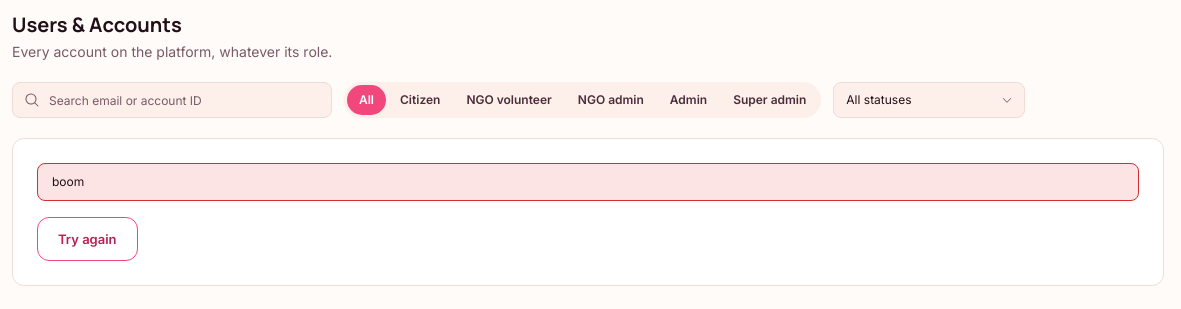
UsersPage › shows a load failure with a retry that recovers
Check: the message reads "boom", box [52,174,84,189]
Click the button named "Try again" at (87,239), box [37,217,138,261]
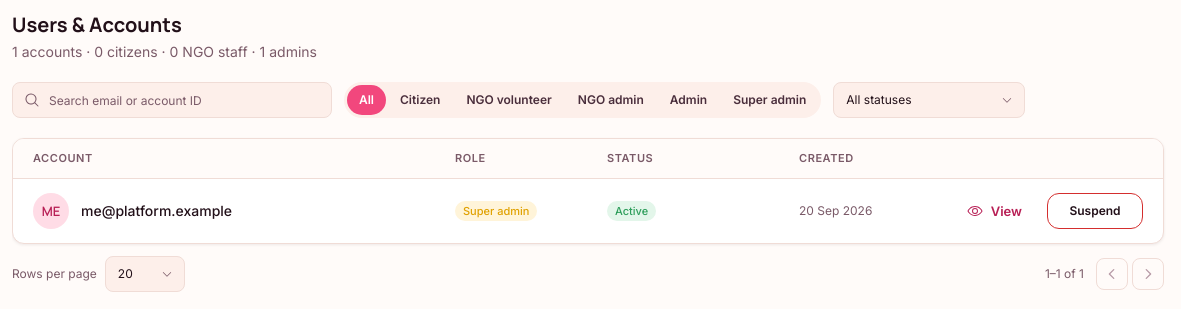
Check: the text "me@platform.example" is shown, box [81,201,232,221]
Check: the message "boom" is gone
